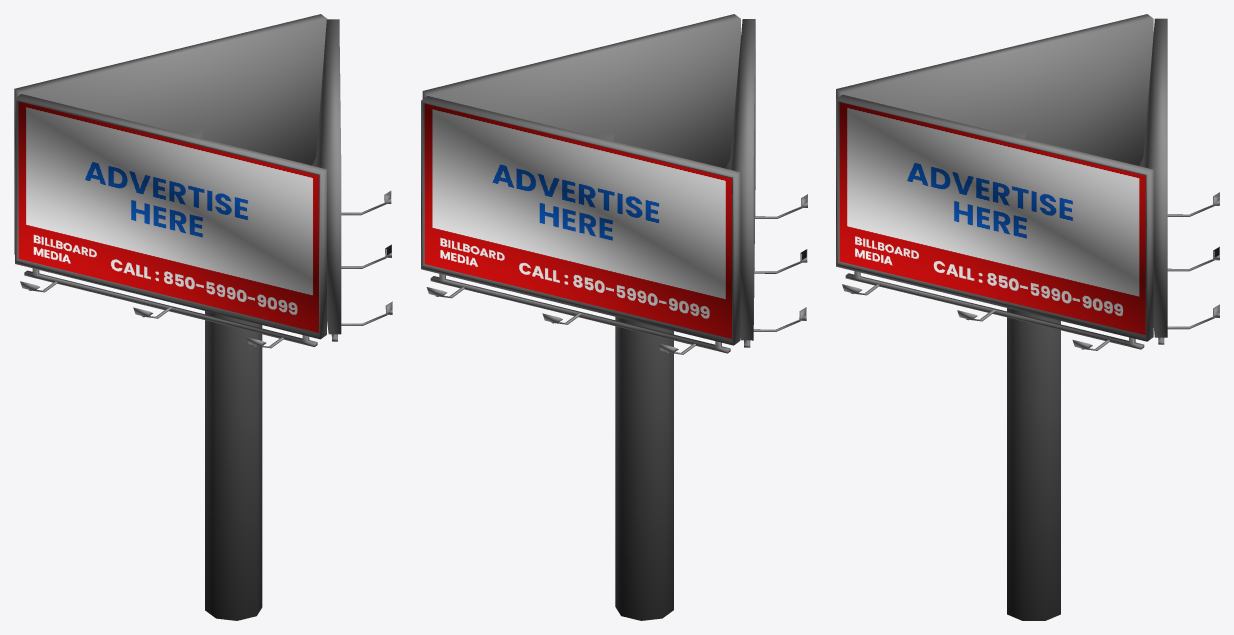
The model's file is VideoTron2.fbx.
The picture shows the model from 3 angles, left to right: view 1: azimuth 30°, elevation 25°; view 2: azimuth 150°, elevation 25°; view 3: azimuth 270°, elevation 25°; orthographic projection.
Visible parts, largest first — view 1: VidioTron_LOD0, Tiang2_LOD0; view 2: VidioTron_LOD0, Tiang2_LOD0; view 3: VidioTron_LOD0, Tiang2_LOD0.
Part boxes in pixels (bbox=[...]): VidioTron_LOD0: bbox=[14, 14, 392, 348]; Tiang2_LOD0: bbox=[205, 311, 262, 620]; VidioTron_LOD0: bbox=[421, 14, 807, 354]; Tiang2_LOD0: bbox=[615, 317, 673, 620]; VidioTron_LOD0: bbox=[836, 14, 1219, 350]; Tiang2_LOD0: bbox=[1007, 308, 1060, 620].
Size of what is drawn, in the model's own units: 1264 by 1656 by 1118.
